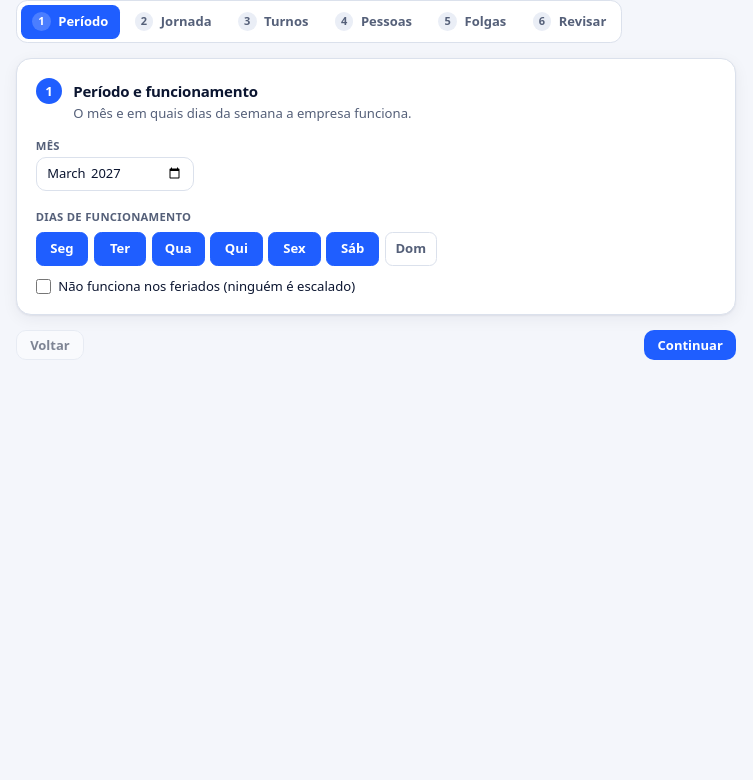
Test: Gerar escala: cobertura por faixa de horário › sem faixa válida, não deixa gerar
The image size is (753, 780).
Click the button "4 Pessoas" at (373,22), box [323,5,423,39]
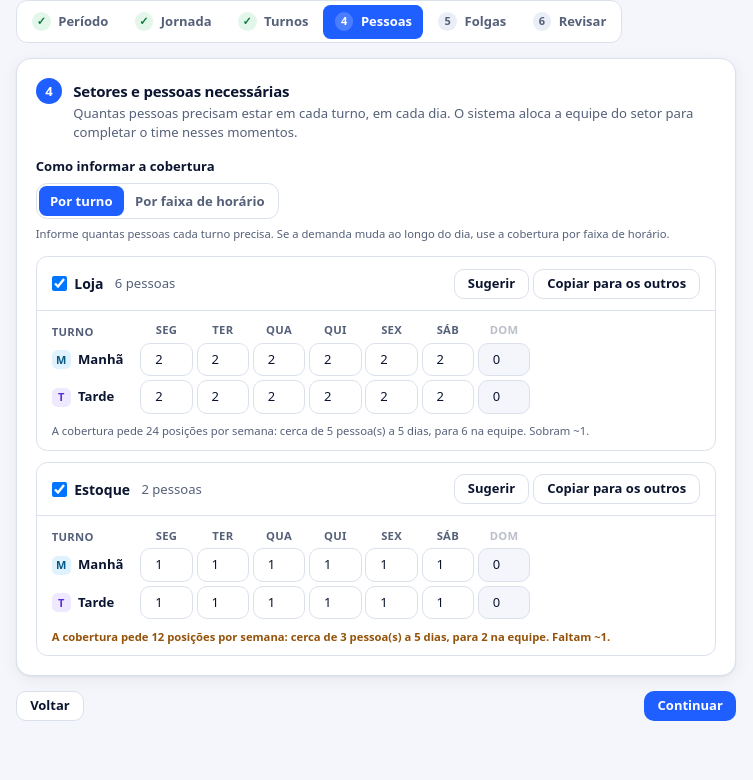
Click the radio button labelled "Por faixa de horário" at (200,201), box [124,186,276,216]
(page scrolled)
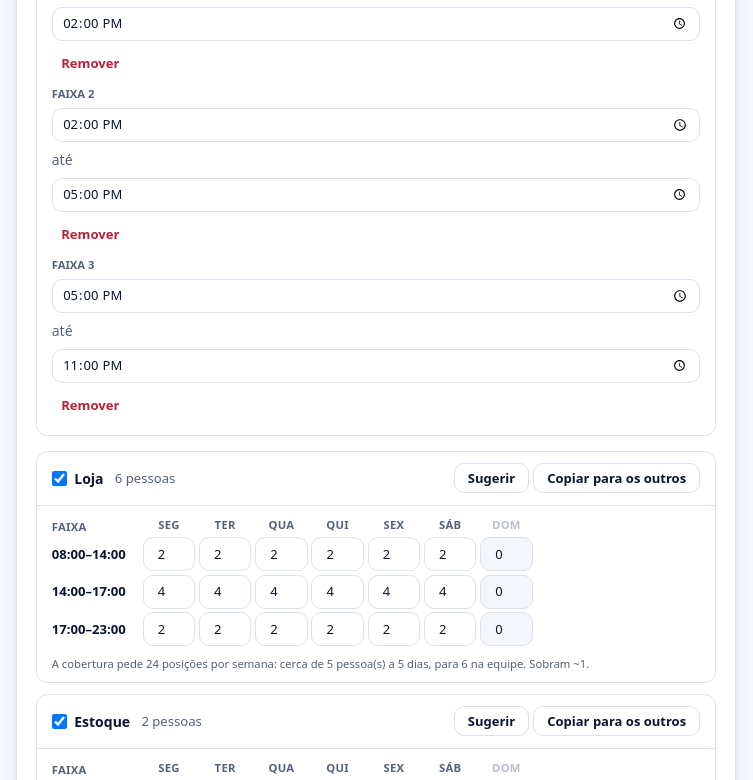
Click the button with aria-label "Remover a faixa 3" at (90,405), box [52,390,129,420]
(page scrolled)
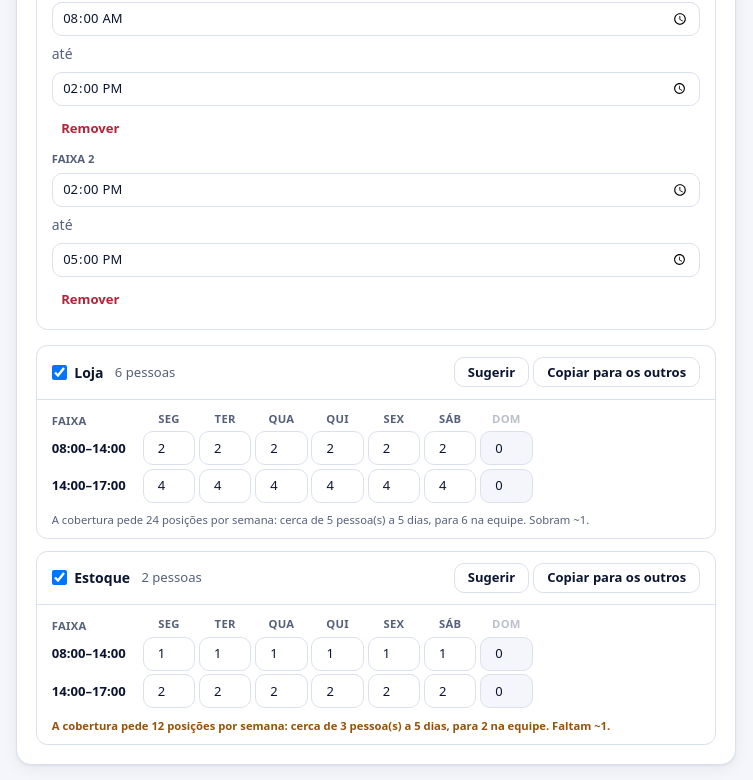
Click the button with aria-label "Remover a faixa 2" at (90,299), box [52,284,129,314]
(page scrolled)
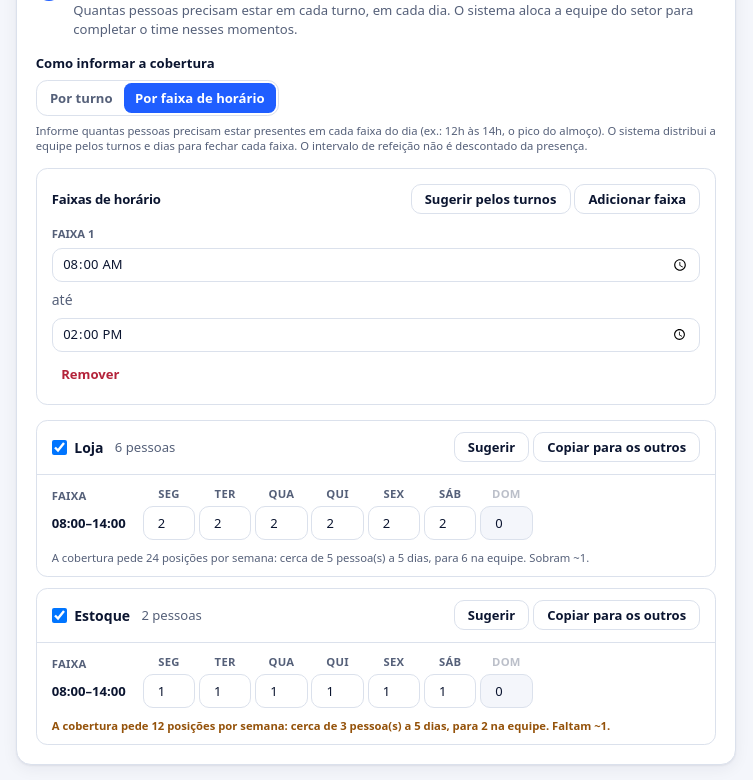
Click the button with aria-label "Remover a faixa 1" at (90,374), box [52,359,129,389]
(page scrolled)
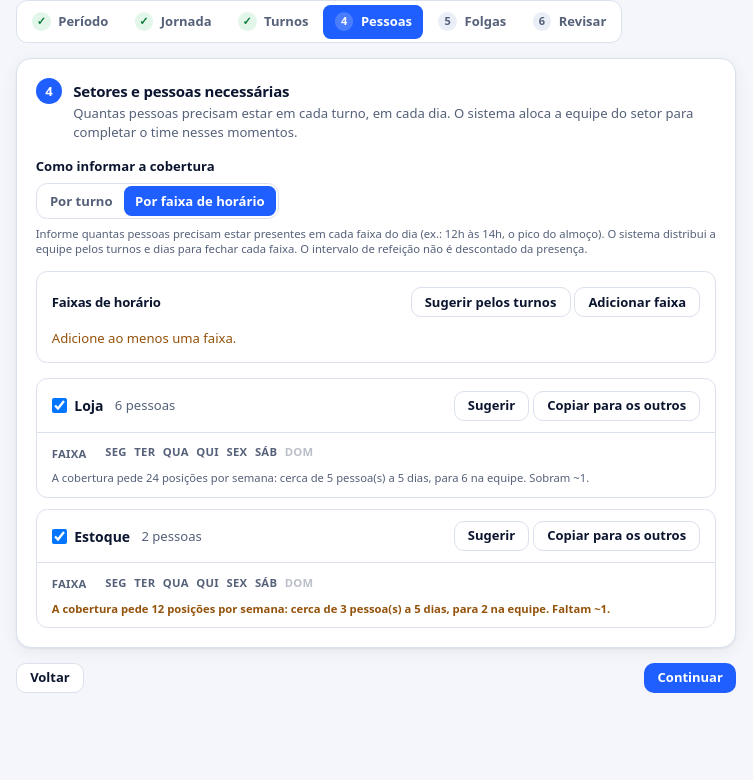
Result: the text "Adicione ao menos uma faixa." is shown at [52,328,236,346]
Click the button "6 Revisar" at (569,22), box [521,5,618,39]
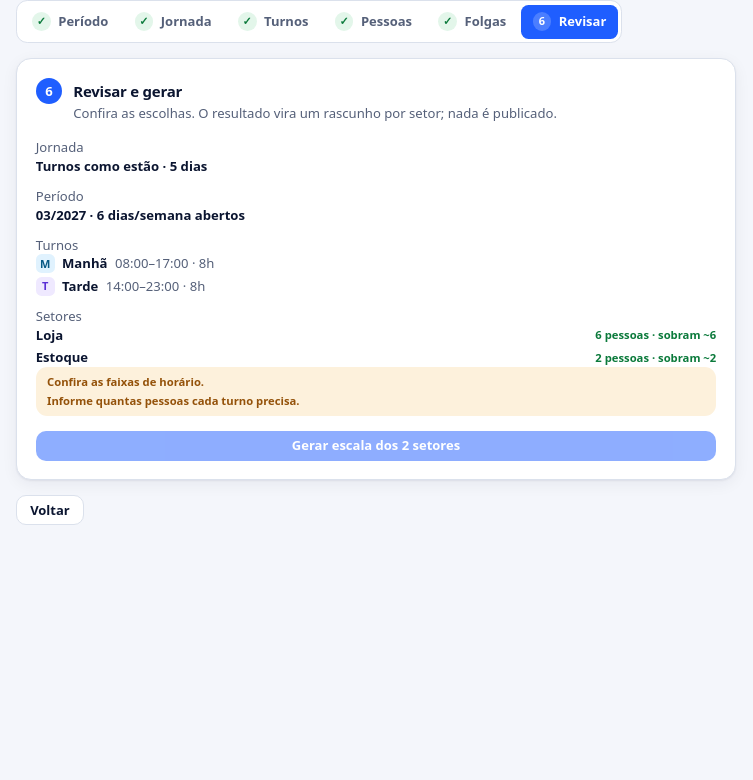
Result: the button "Gerar escala dos 2 setores" is disabled at [36,430,716,460]
